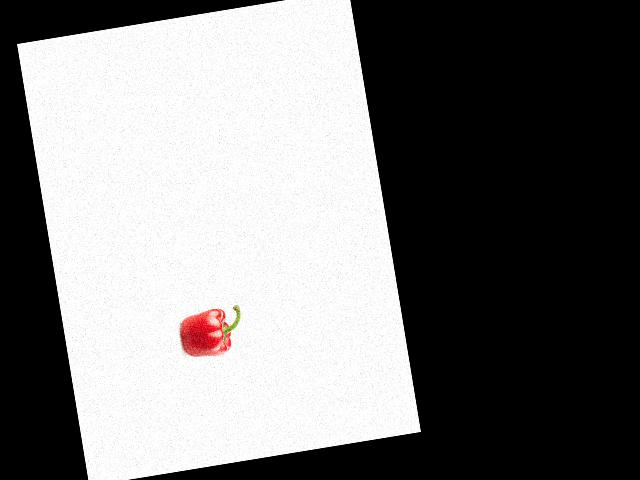bell_pepper: (176, 302, 247, 360)
